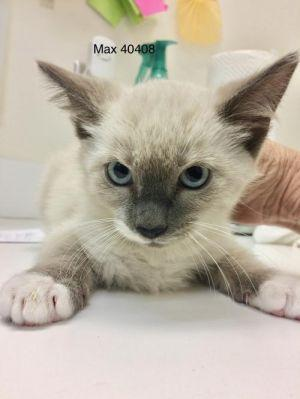siamese: (37, 26, 293, 280)
